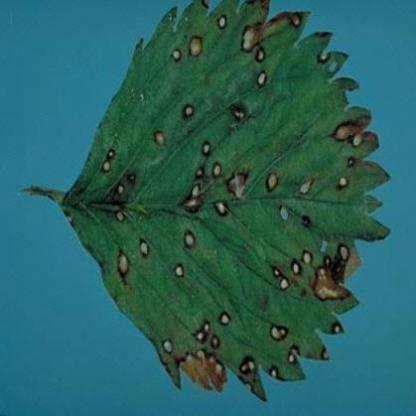Strawberry_Leaf_Spot: (57, 0, 392, 403)
